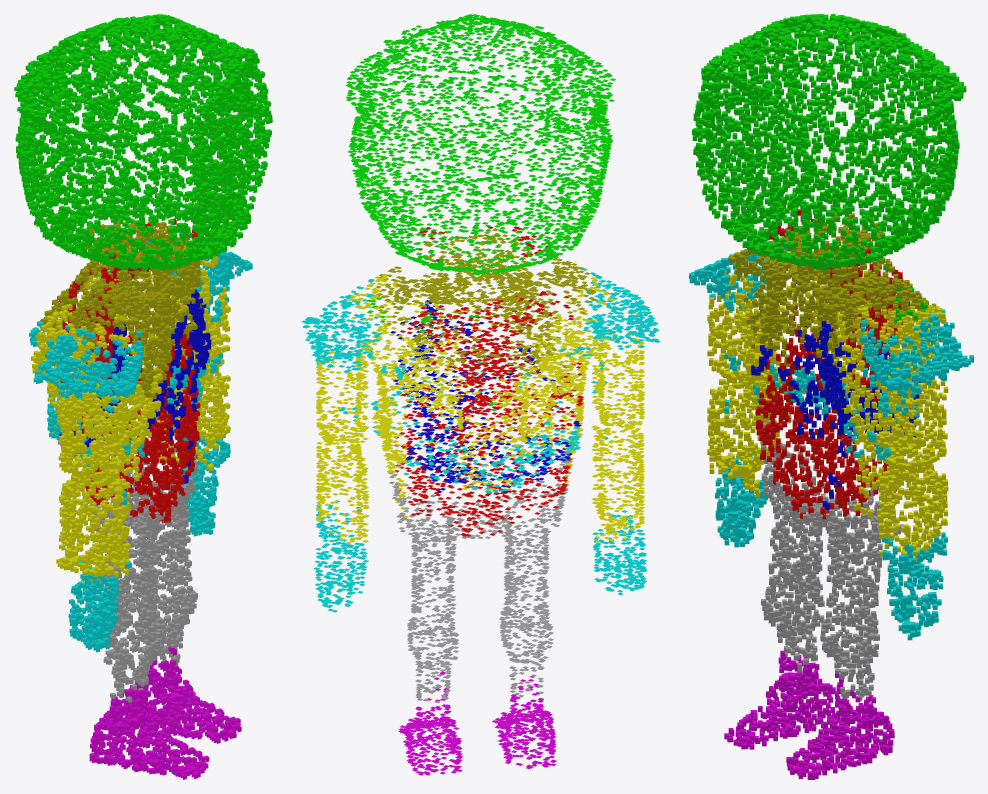
Rendered from pred.glb.
The picture shows the model from 3 angles, left to right: view 1: azimuth 30°, elevation 25°; view 2: azimuth 150°, elevation 25°; view 3: azimuth 270°, elevation 25°; orthographic projection. The views are drawn at different scales.
Visible parts, largest first — view 1: world; view 2: world; view 3: world.
Part boxes in pixels (x1,y1,x2,y2): world: (14,14,272,779); world: (301,14,660,775); world: (689,14,973,779).
Size of the model in its own units: 0.5632 by 1.36 by 0.4939.
